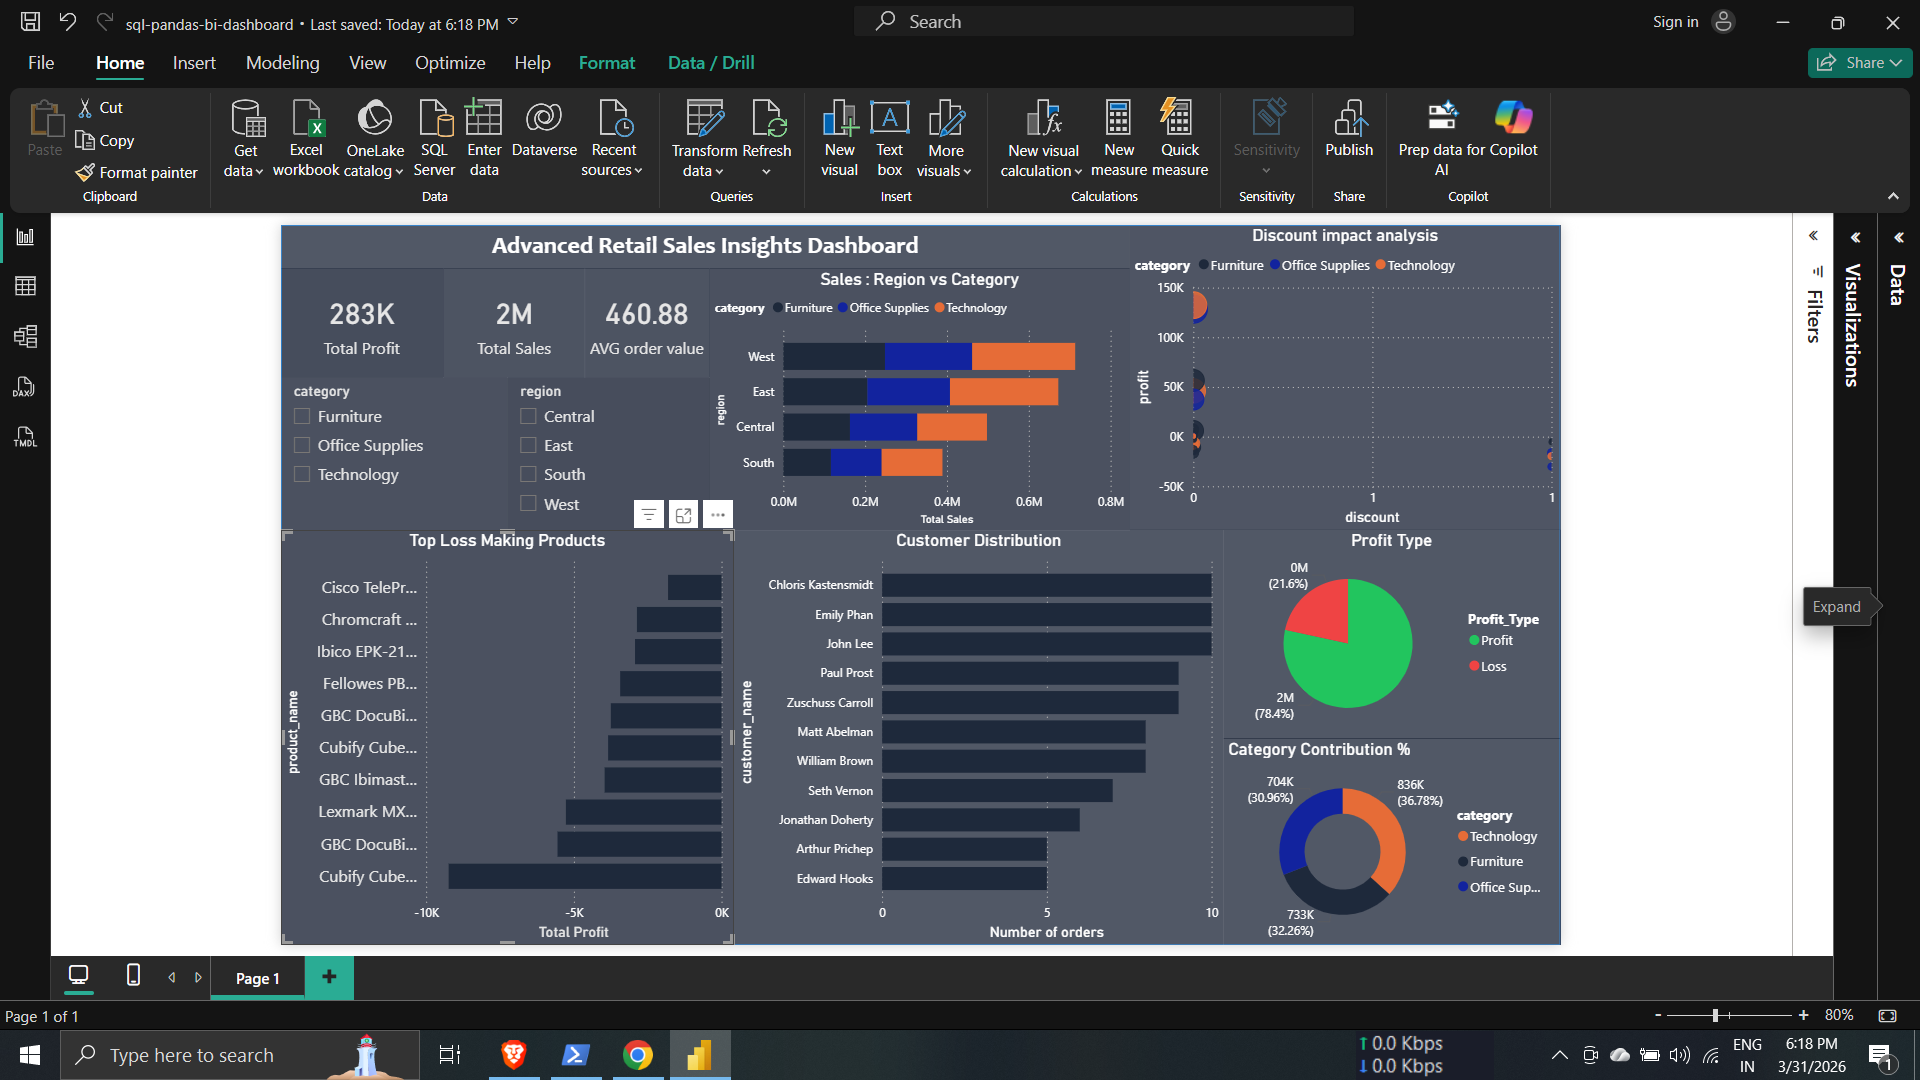

The dashboard page shown, as its layout file describes it:
{"tool":"powerbi","page":{"name":"Page 1","canvas":[1280,720],"ordinal":0},"visuals":[{"type":"shape","box":[0,0,1279.5,720.2],"z":0},{"type":"textbox","box":[0,0,848.6,43.6],"z":1000},{"type":"card","fields":{"Values":["Sum(profit_category.profit)"]},"box":[0,43.6,162.2,108.9],"z":2000},{"type":"card","fields":{"Values":["Sum(monthly_sales.sales)"]},"box":[162.2,43.6,141.6,108.9],"z":3000},{"type":"slicer","fields":{"Values":["Category_Table.category"]},"box":[0,152.5,226.4,152.5],"z":4000},{"type":"slicer","fields":{"Values":["Region_Table.region"]},"box":[226.4,152.5,202.2,152.5],"z":5000},{"type":"scatterChart","title":"Discount impact analysis","fields":{"X":["discount_impact.discount"],"Y":["discount_impact.profit"],"Series":["discount_impact.category"],"Size":["Sum(discount_impact.sales)"]},"box":[848.6,0,430.9,305],"z":6000},{"type":"barChart","title":"Sales : Region vs Category","fields":{"Category":["region_performance.region"],"Series":["region_performance.category"],"Y":["Sum(region_performance.sales)"]},"box":[428.5,43.6,420,261.5],"z":7000},{"type":"barChart","title":"Top Loss Making Products","fields":{"Category":["loss_products.product_name"],"Y":["Sum(loss_products.profit)"]},"box":[0,305,452.7,415.2],"z":8000},{"type":"donutChart","title":"Category Contribution %","fields":{"Category":["category_sales.category"],"Y":["Sum(category_sales.sales)"]},"box":[943,513.3,336.5,207],"z":9000},{"type":"barChart","title":"Customer Distribution","fields":{"Category":["customers orders count.customer_name"],"Y":["CountNonNull(customers orders count.order_id)"]},"box":[452.7,305,490.3,415.2],"z":10000},{"type":"pieChart","title":"Profit Type","fields":{"Category":["full data.Profit_Type"],"Y":["Sum(full data.sales)"]},"box":[943,305,336.5,208.2],"z":11000},{"type":"card","fields":{"Values":["category_sales.AVG order value"]},"box":[303.8,43.6,124.7,108.9],"z":12000}]}

Visuals, with their boxes on the page's 1280x720 design canvas (x1, y1, x2, y2). These are canvas units, not pixel positions in the 1920x1080 screenshot, which may show the page scaled, cropped or inside an application window:
shape: l=0, t=0, r=1280, b=720
textbox: l=0, t=0, r=849, b=44
card - Sum(profit_category.profit): l=0, t=44, r=162, b=152
card - Sum(monthly_sales.sales): l=162, t=44, r=304, b=152
slicer - Category_Table.category: l=0, t=152, r=226, b=305
slicer - Region_Table.region: l=226, t=152, r=429, b=305
"Discount impact analysis" scatterChart: l=849, t=0, r=1280, b=305
"Sales : Region vs Category" barChart: l=428, t=44, r=848, b=305
"Top Loss Making Products" barChart: l=0, t=305, r=453, b=720
"Category Contribution %" donutChart: l=943, t=513, r=1280, b=720
"Customer Distribution" barChart: l=453, t=305, r=943, b=720
"Profit Type" pieChart: l=943, t=305, r=1280, b=513
card - category_sales.AVG order value: l=304, t=44, r=428, b=152
